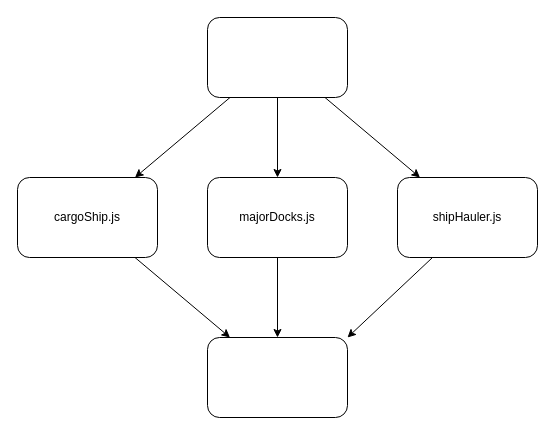
Some shapes in this 555 by 435 pixel diagram are drawn without their labels. The centre of each missing label's shape, as x and y in pixels:
"database.js" belongs at (x=277, y=377).
"main.js" belongs at (x=277, y=57).
